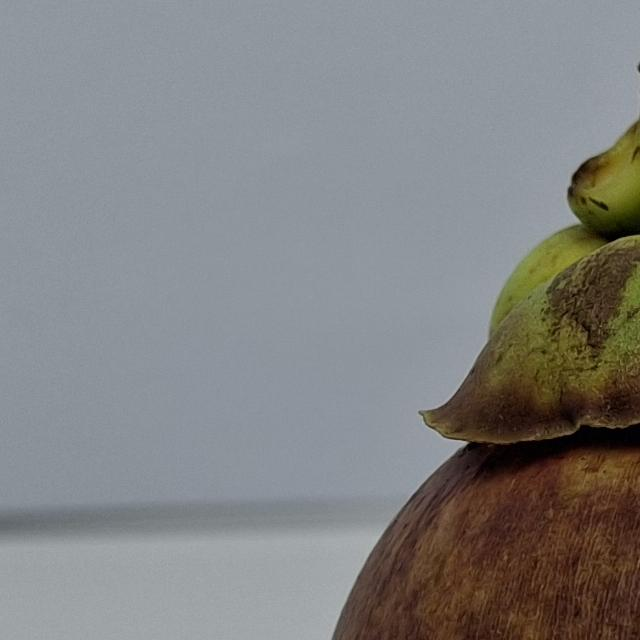mangosteen: (280, 25, 640, 640)
